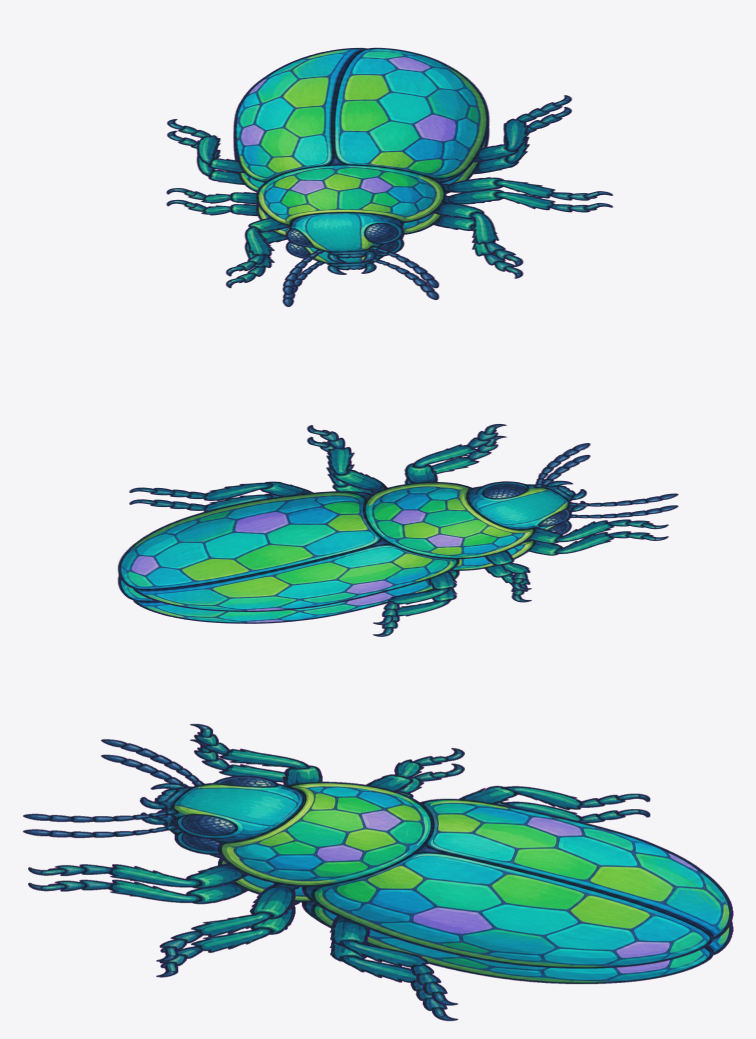
The model's file is beetle.glb.
3 renders of one model, top to bottom at view 1: azimuth 30°, elevation 25°; view 2: azimuth 150°, elevation 25°; view 3: azimuth 270°, elevation 25°, orthographic. The views are drawn at different scales.
Visible parts, largest first — view 1: beetle; view 2: beetle; view 3: beetle.
Part boxes in pixels (x1,y1,x2,y2): beetle: (166, 47, 613, 306); beetle: (117, 424, 678, 636); beetle: (23, 724, 733, 1020).
Bounding box in the file's own units: 2 × 0.05 × 2.13.
1 material, 1 textured.
